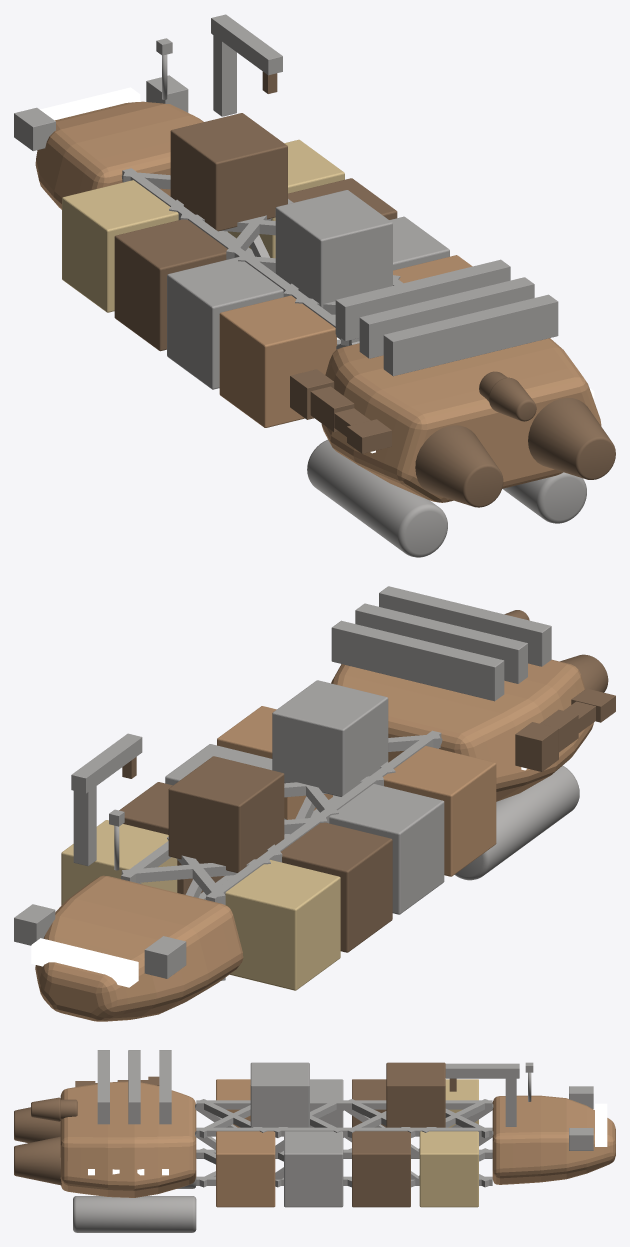
The model's file is terra-nexum.glb.
3 renders of one model, top to bottom at view 1: azimuth 30°, elevation 25°; view 2: azimuth 150°, elevation 25°; view 3: azimuth 270°, elevation 25°, orthographic. The views are drawn at different scales.
Visible parts, largest first — view 1: hull.001, Cube.040, Cube.041, Cube.038, hull, Cube.032, Cube.036, Cube.034, Cube.044, Cylinder.007, Cone, Cone.001 (+17 smaller); view 2: hull, hull.001, Cube.032, Cube.040, Cube.041, Cube.036, Cube.038, Cube.034, Cube.042, Cylinder.007, Cube.043, Cube.044 (+17 smaller); view 3: hull.001, hull, Cube.039, Cube.033, Cube.037, Cube.035, Cylinder.008, Cube.040, Cube.041, Cone.001, Cube.004, Cube.006 (+25 smaller).
Part boxes in pixels (x1,y1,x2,y2): hull.001: (321,338,601,502); Cube.040: (170,113,287,231); Cube.041: (275,190,392,307); Cube.038: (219,295,336,427); hull: (35,101,203,209); Cube.032: (62,180,178,312); Cube.036: (167,257,283,389); Cube.034: (114,219,227,351); Cube.044: (383,294,558,376); Cylinder.007: (307,439,447,557); Cone: (415,425,503,507); Cone.001: (528,397,615,479); hull: (35,875,243,1021); hull.001: (331,659,593,801); Cube.032: (225,859,340,990); Cube.040: (168,756,284,872); Cube.041: (272,680,388,796); Cube.036: (329,784,444,914); Cube.038: (383,746,496,876); Cube.034: (281,822,392,952); Cube.042: (331,620,504,701); Cylinder.007: (454,765,579,880); Cube.043: (355,603,527,683); Cube.044: (379,586,551,666); hull.001: (60,1081,196,1197); hull: (492,1095,615,1184); Cube.039: (216,1131,275,1207); Cube.033: (419,1131,478,1207); Cube.037: (284,1131,343,1207); Cube.035: (352,1131,410,1207); Cylinder.008: (73,1196,196,1232); Cube.040: (386,1062,445,1127); Cube.041: (250,1062,309,1127); Cone.001: (14,1136,61,1185); Cube.004: (196,1127,492,1136); Cube.006: (196,1100,492,1109).
Bounding box in the file's own units: 1.51 × 1.47 × 4.88.
